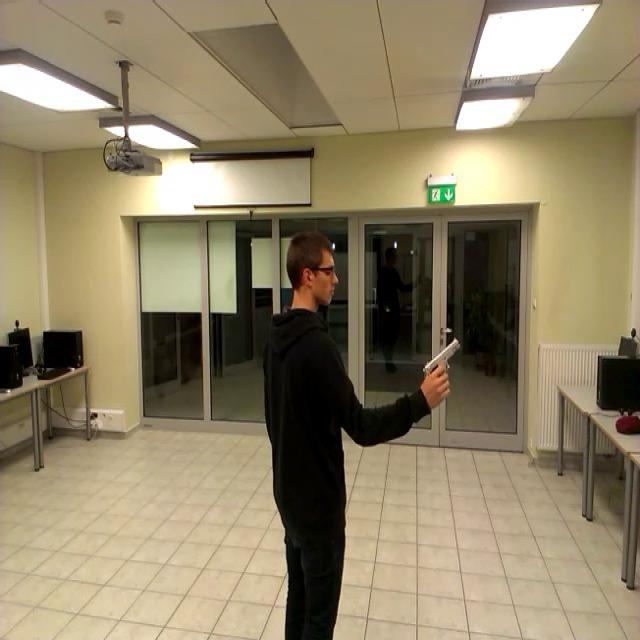handgun: (420, 332, 464, 404)
